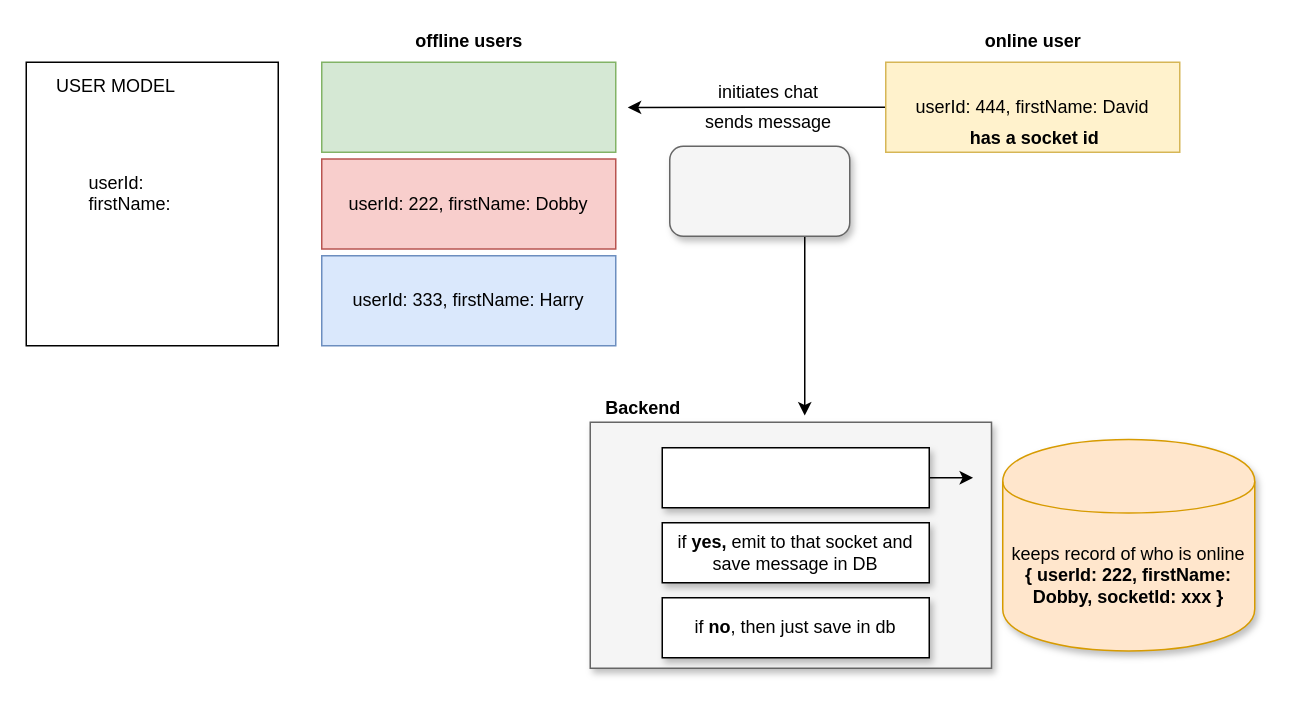
Some shapes in this 1290 by 705 pixel diagram are drawn without their labels. Here are the shapes that lost their labels. From the top down, the centre of each, then its label:
point 468,106: userId: 111, firstName: John
point 760,193: to: 222 sender: 444 msg: "Hey there!"
point 796,479: check if { to: 222 } is online
